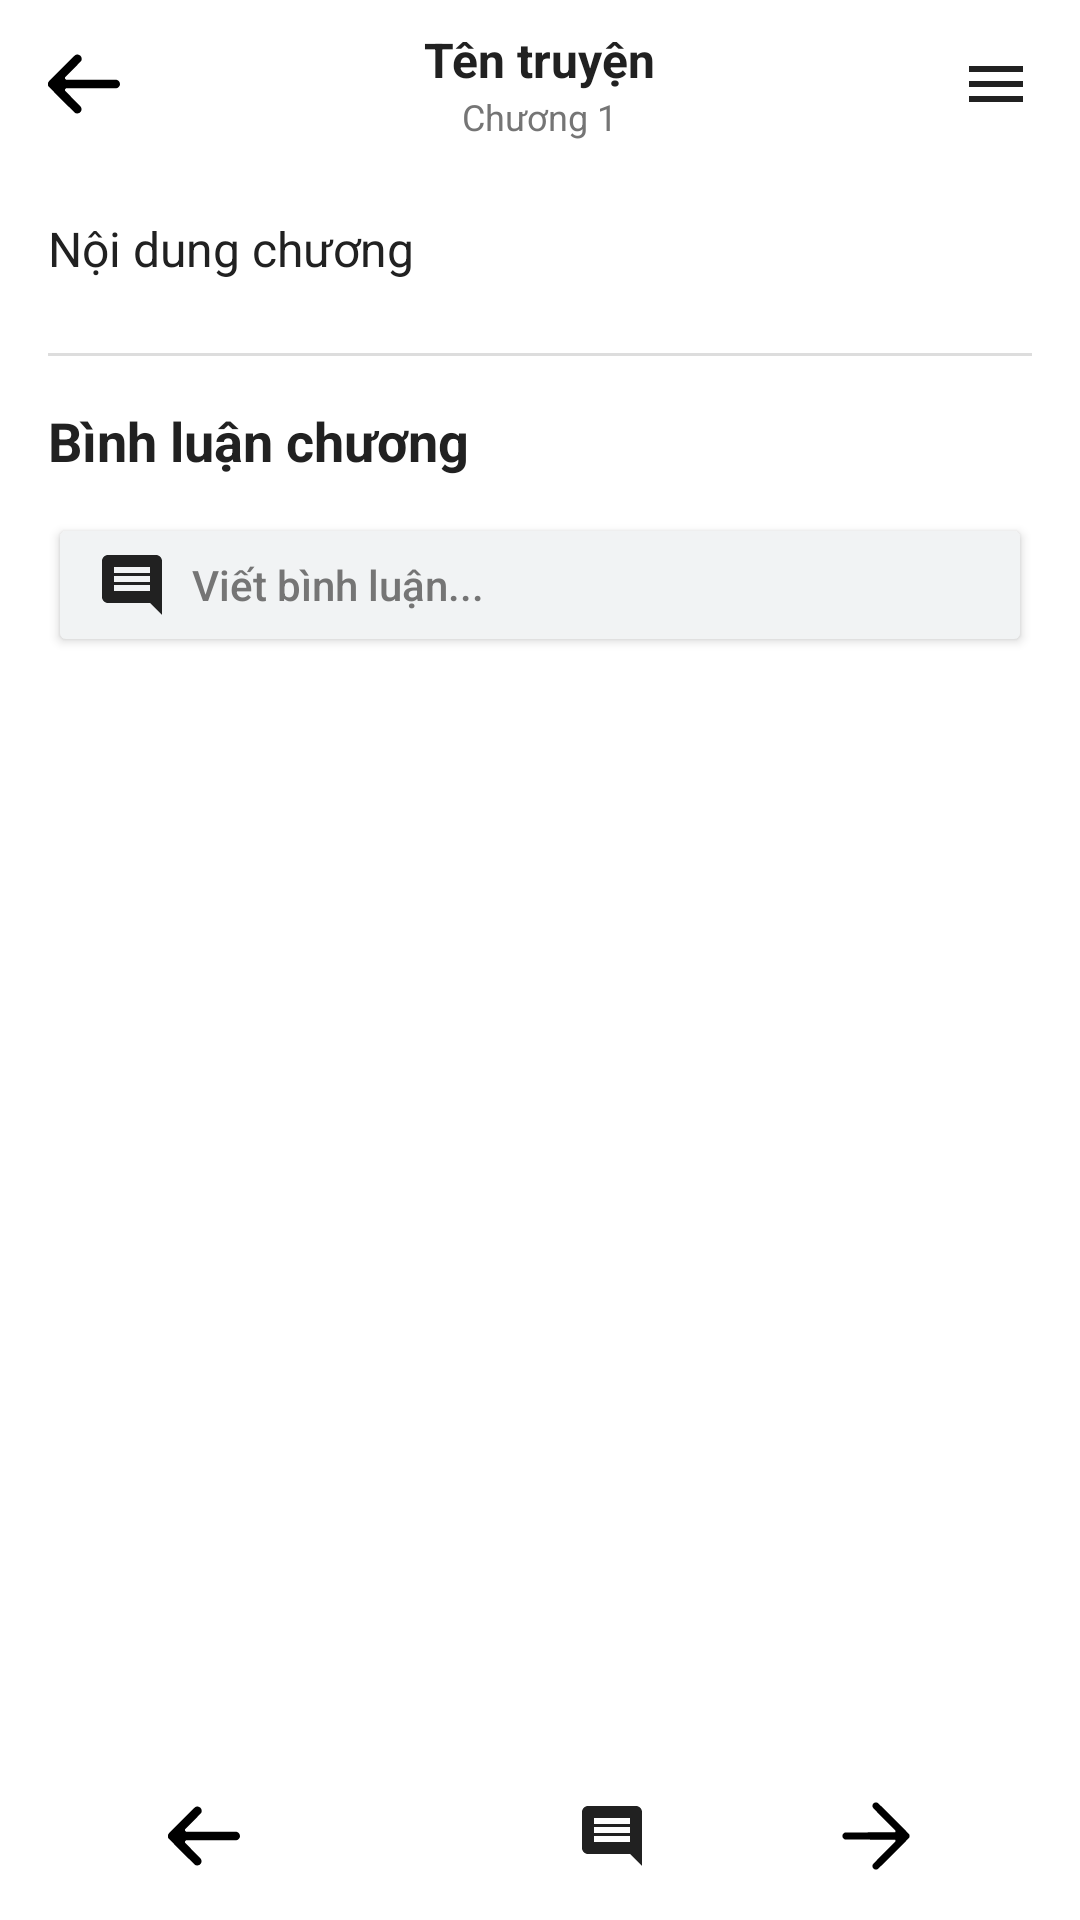

Where icons sit on this 1080×1920 app screen, as BBox(x1, y1, x2, y2):
back: BBox(48, 54, 120, 114)
Bình luận: BBox(582, 1806, 642, 1866)
Chương sau: BBox(842, 1802, 910, 1870)
Chương trước: BBox(168, 1806, 240, 1866)
menu: BBox(969, 66, 1023, 102)
